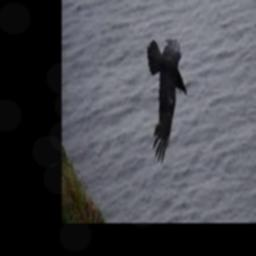Crow: (147, 35, 188, 164)
